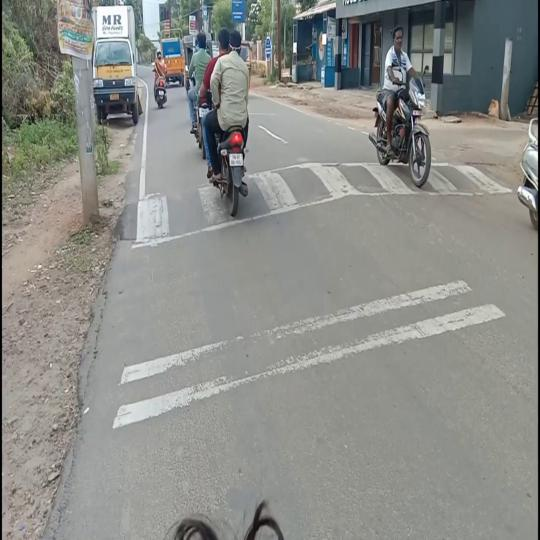Speed Bump: (246, 162, 404, 222), (113, 183, 226, 243), (432, 162, 498, 194)
